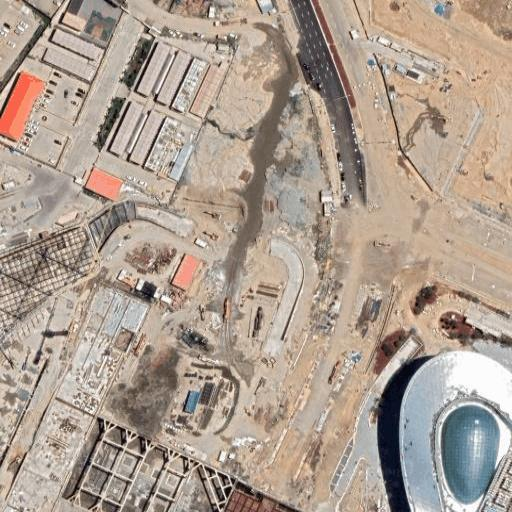building: (390, 349, 512, 511), (128, 200, 191, 236), (171, 56, 208, 114), (129, 107, 165, 165), (156, 48, 191, 105), (137, 39, 171, 96), (109, 100, 144, 155), (190, 63, 225, 117), (145, 115, 179, 170), (51, 27, 102, 61), (43, 46, 92, 80), (84, 165, 124, 202), (170, 251, 201, 291), (123, 113, 148, 155), (152, 52, 175, 94), (169, 143, 194, 181), (61, 10, 87, 29), (184, 389, 201, 414), (142, 282, 158, 296), (135, 279, 146, 293), (116, 267, 126, 282), (378, 35, 390, 46), (160, 293, 172, 304), (407, 69, 419, 79), (87, 58, 99, 68), (218, 449, 227, 462), (121, 276, 135, 284), (394, 63, 405, 73), (82, 169, 92, 180), (195, 238, 206, 248), (350, 28, 360, 38), (157, 171, 168, 180), (391, 43, 403, 51), (219, 62, 228, 70), (39, 232, 48, 238)
